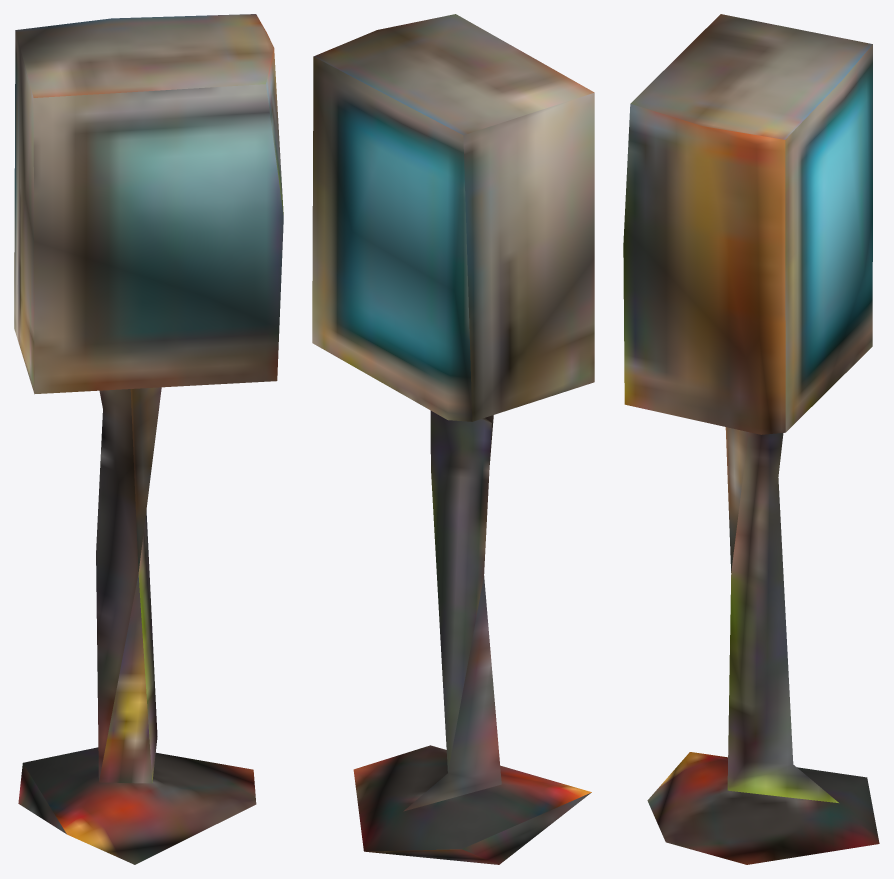
Rendered from meter.fbx.
3 renders of one model, left to right at view 1: azimuth 30°, elevation 25°; view 2: azimuth 150°, elevation 25°; view 3: azimuth 270°, elevation 25°, orthographic. The views are drawn at different scales.
Visible parts, largest first — view 1: Mesh_0.006; view 2: Mesh_0.006; view 3: Mesh_0.006.
Boxes of the visible parts, x1,y1,x2,y2 form: Mesh_0.006: (14,14,283,864); Mesh_0.006: (312,14,594,864); Mesh_0.006: (623,14,879,864).
Bounding box in the file's own units: 41.43 × 117 × 35.96.
